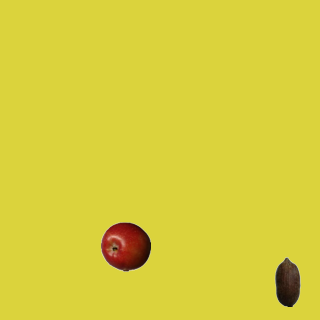Apple Braeburn: (100, 221, 150, 271)
Nut Pecan: (262, 256, 312, 306)
